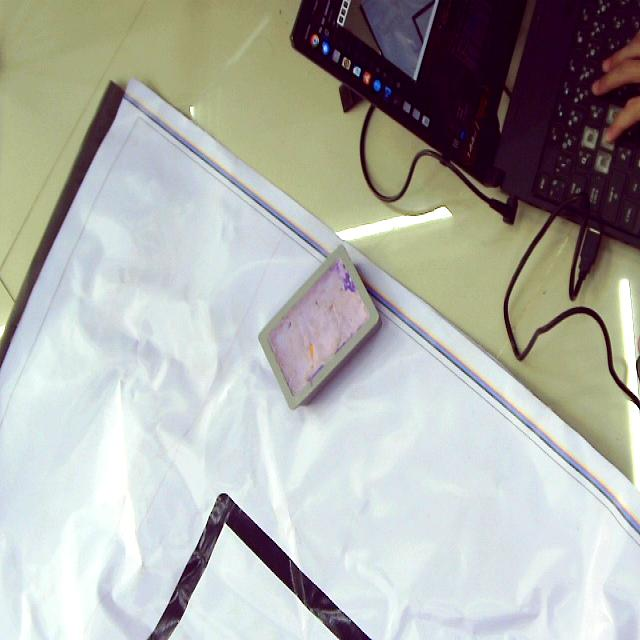block: (258, 243, 382, 409)
